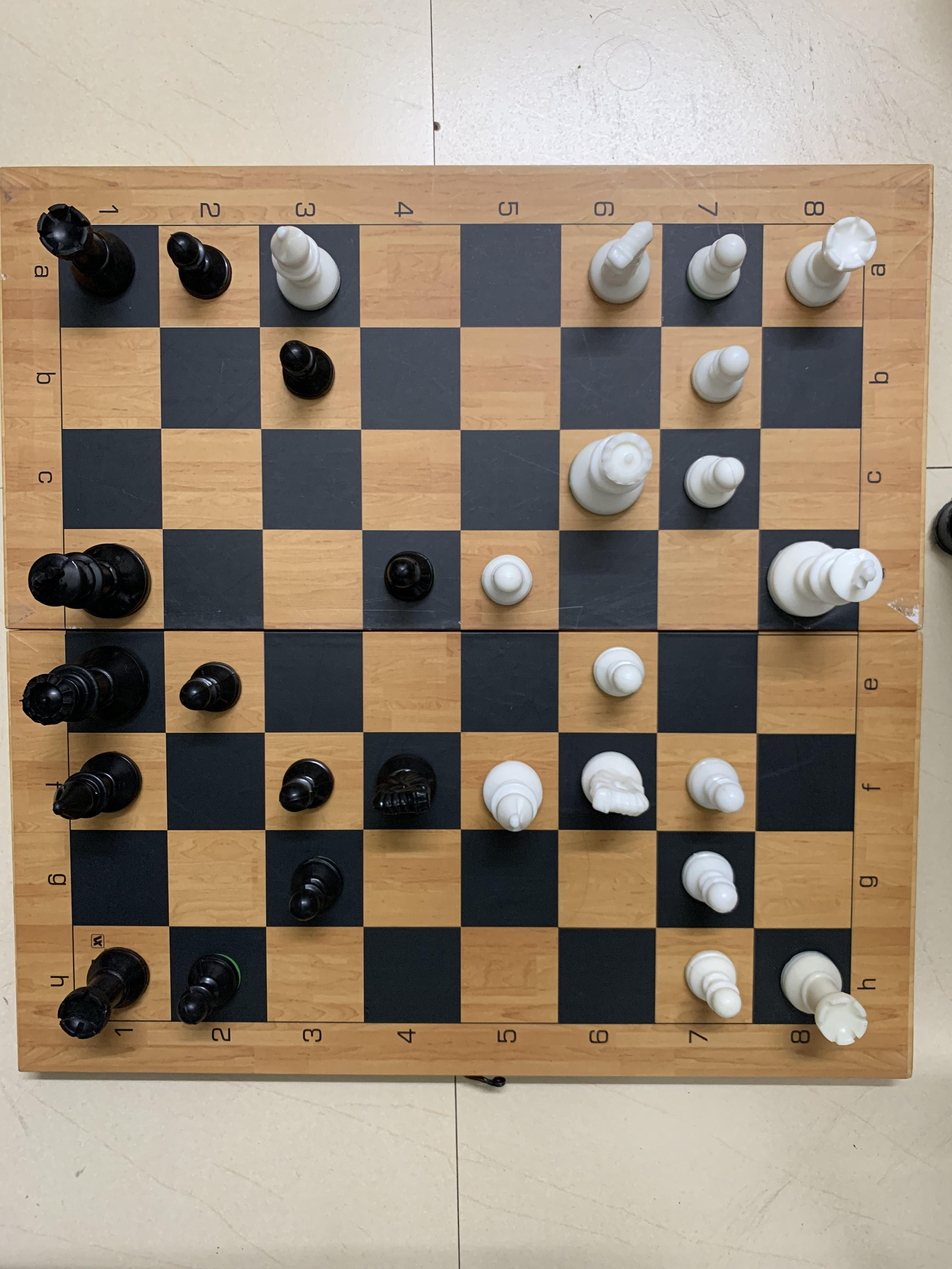black_bishop: (49, 747, 154, 821)
black_king: (29, 537, 170, 633)
black_knight: (366, 737, 439, 828)
black_pawn: (176, 949, 254, 1033), (167, 221, 235, 313), (272, 746, 343, 822), (280, 847, 347, 924), (173, 657, 254, 717), (376, 545, 439, 619), (276, 333, 337, 409)
black_queen: (19, 642, 154, 743)
black_rook: (37, 193, 142, 321), (41, 933, 155, 1042)
white_bishop: (258, 221, 344, 321)
white_king: (768, 530, 888, 634), (781, 935, 782, 937)
white_knight: (586, 213, 658, 324), (572, 737, 653, 822)
white_pawn: (668, 941, 744, 1024), (678, 229, 757, 305), (668, 442, 748, 517), (683, 342, 760, 417), (684, 744, 748, 834), (677, 845, 744, 923), (580, 648, 662, 708), (474, 545, 537, 612)
white_queen: (560, 421, 654, 527)
white_rook: (778, 929, 876, 1049), (784, 213, 877, 313)
